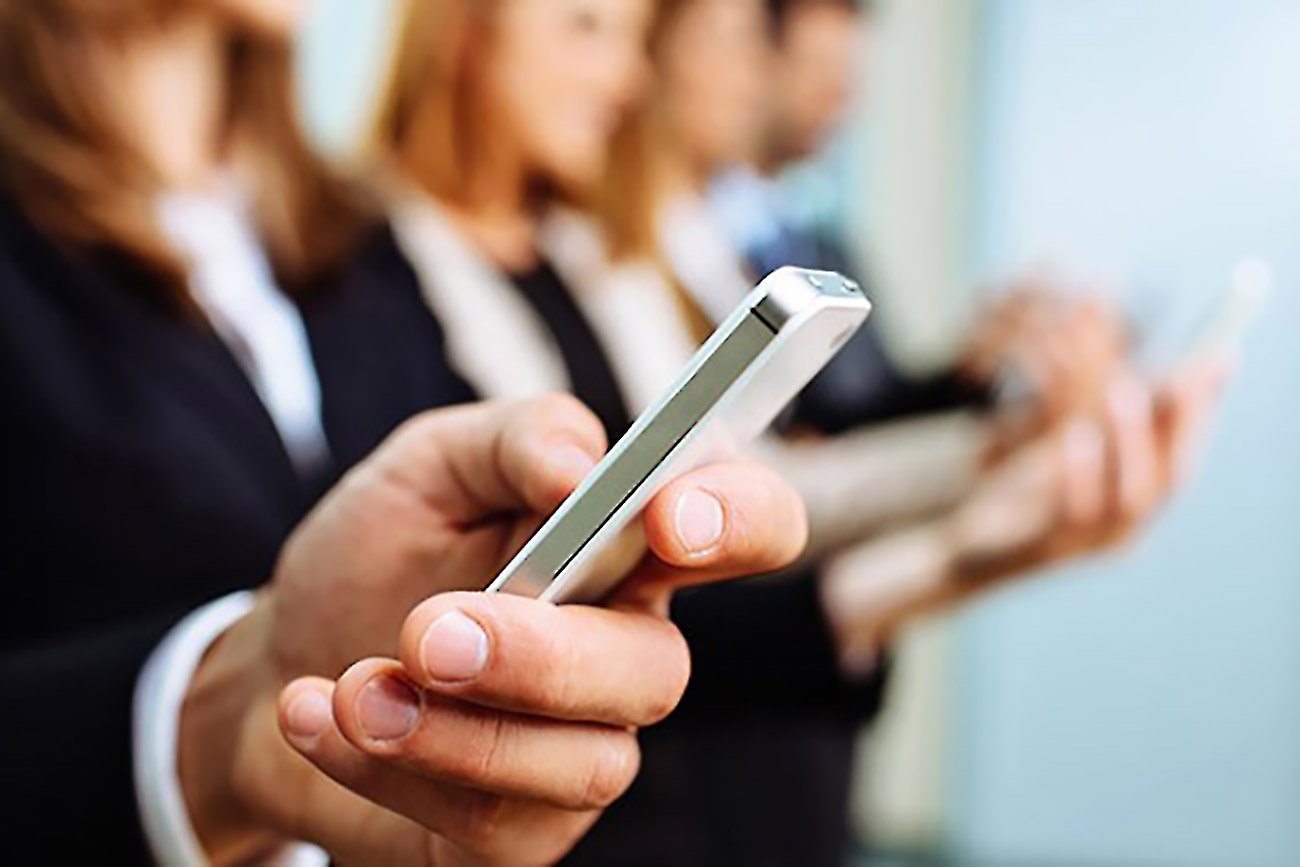smartphone: (486, 266, 877, 605)
